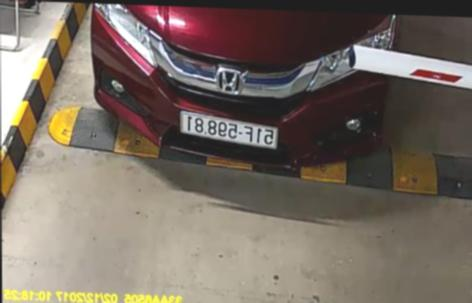License_Plate: (177, 113, 281, 150)
